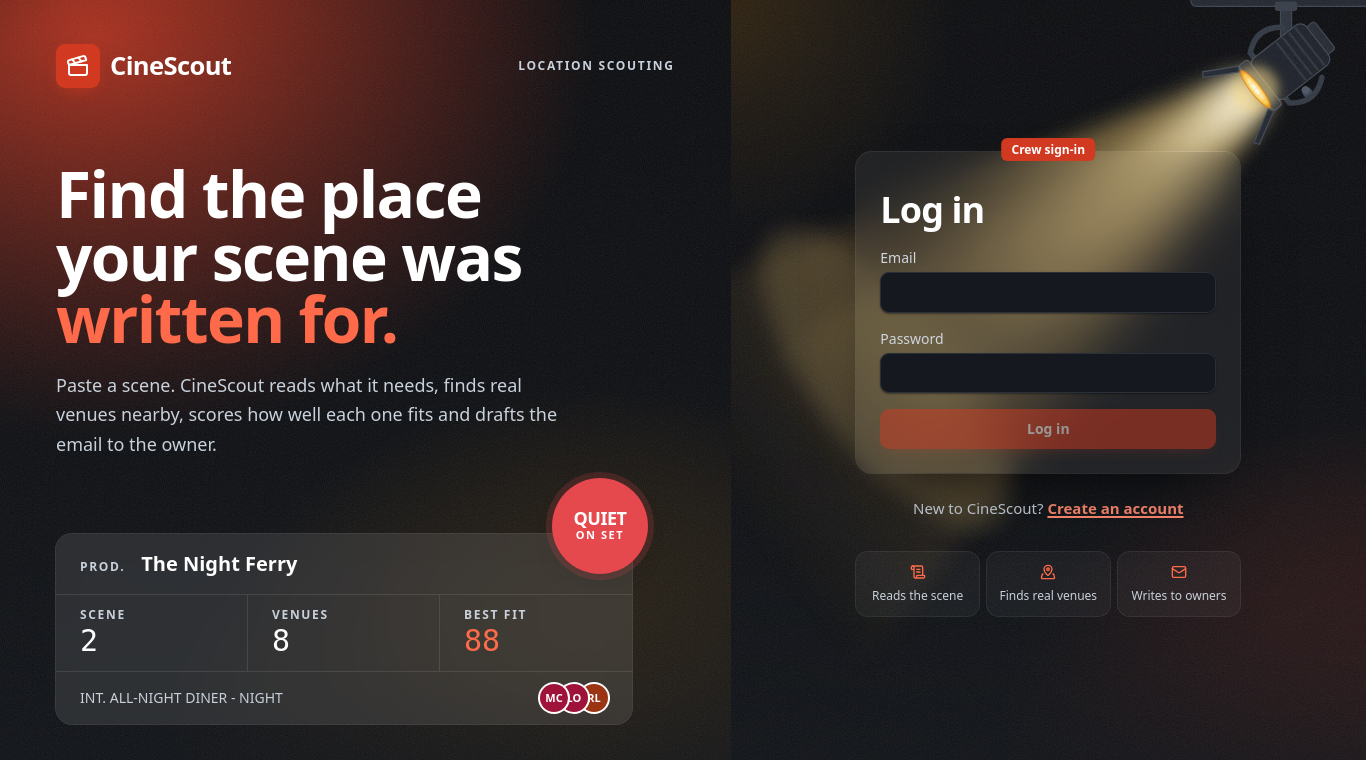
Test case: a viewer on the project page › is offered the crew but not editing, archiving or deleting the project
The width and height of the screenshot is (1366, 760).
Type "ada@example.com" into the field labelled "Email" at x=1048, y=293, box x1=880 y1=272 x2=1216 y2=313
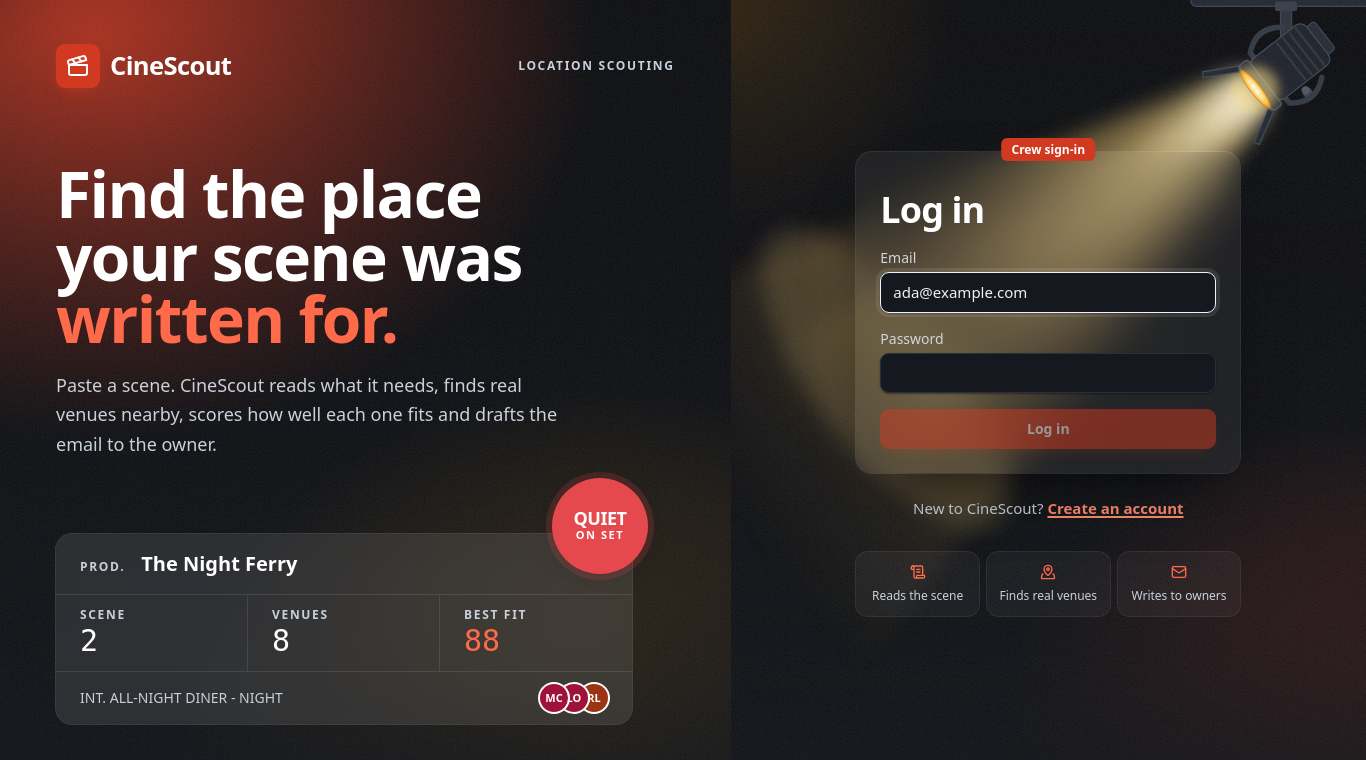
Type "a-long-password" into the password field labelled "Password" at x=1048, y=373, box x1=880 y1=353 x2=1216 y2=393
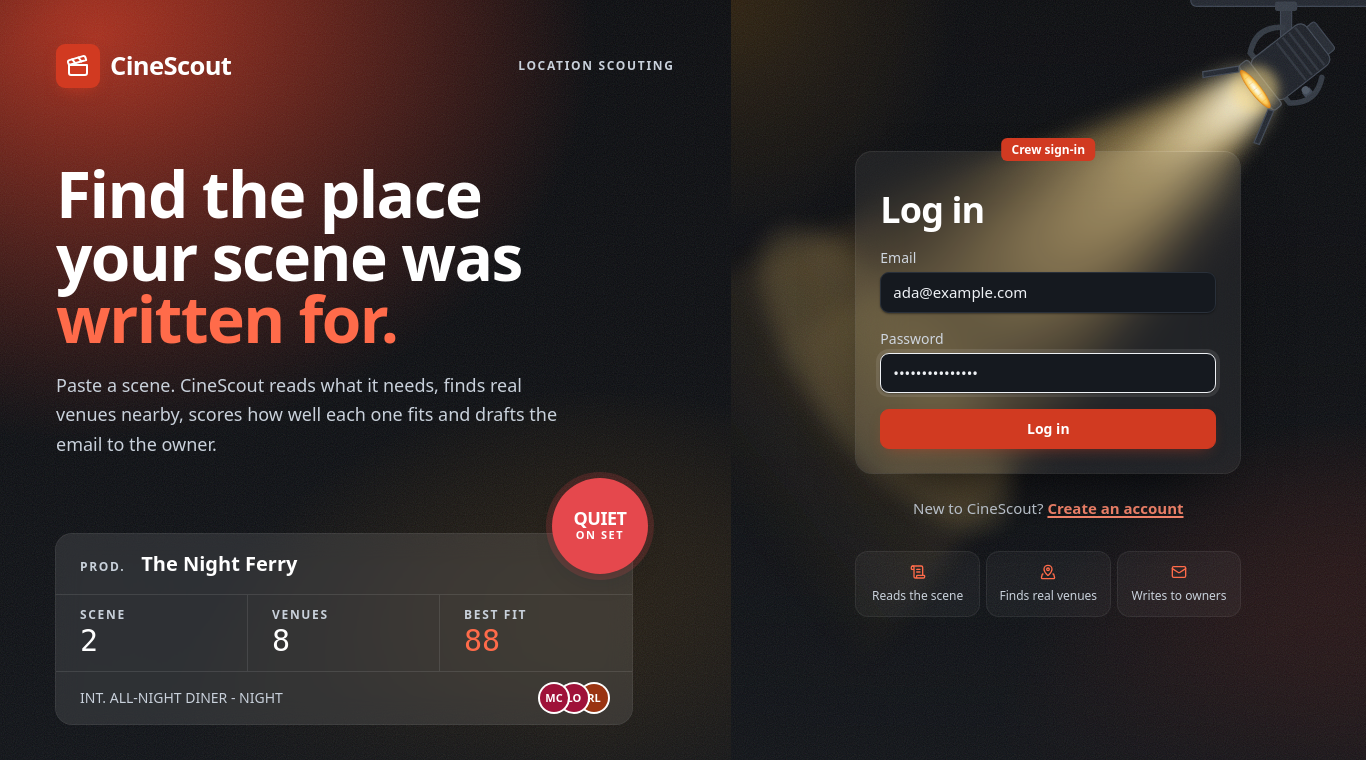
Click the button "Log in" at x=1048, y=429, box x1=880 y1=409 x2=1216 y2=449
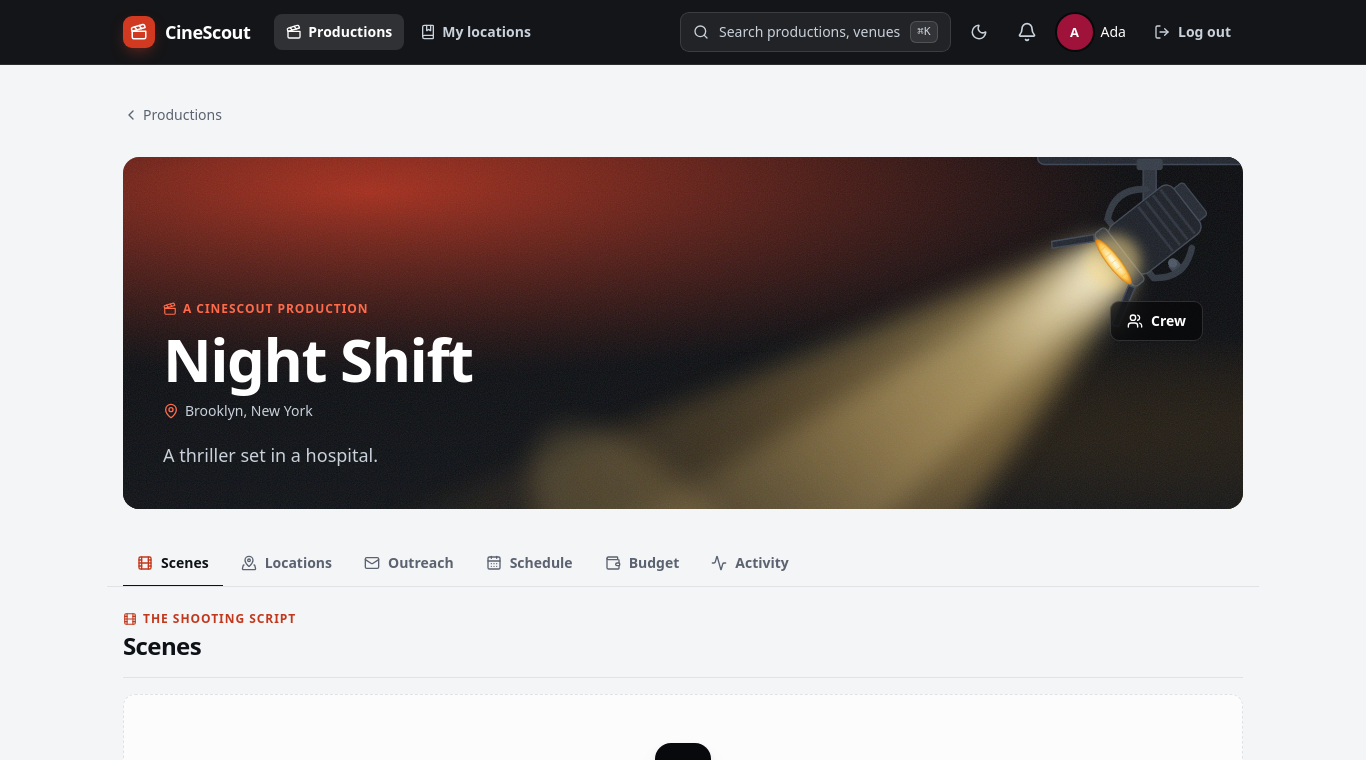
Expected: the heading "Night Shift" is shown, x1=163 y1=329 x2=473 y2=389
